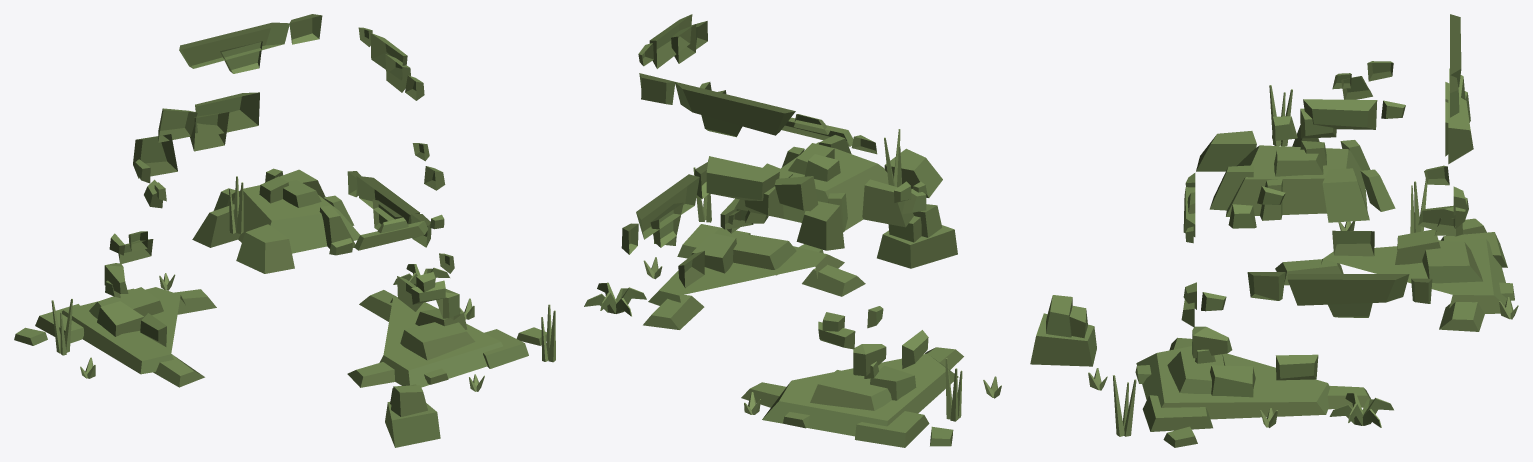
Rendered from SA_Bld_Shop_Growth_01.gltf.
3 renders of one model, left to right at view 1: azimuth 30°, elevation 25°; view 2: azimuth 150°, elevation 25°; view 3: azimuth 270°, elevation 25°, orthographic. The views are drawn at different scales.
Parts seen in each view (by area): view 1: SA_Bld_Shop_Growth_01; view 2: SA_Bld_Shop_Growth_01; view 3: SA_Bld_Shop_Growth_01.
Boxes of the visible parts, <box> form: SA_Bld_Shop_Growth_01: <box>14,14,555,447</box>; SA_Bld_Shop_Growth_01: <box>584,14,1001,447</box>; SA_Bld_Shop_Growth_01: <box>1030,14,1518,447</box>.
Bounding box in the file's own units: 19.41 × 12.65 × 17.94.
Materials: 1 (1 with a texture image).
